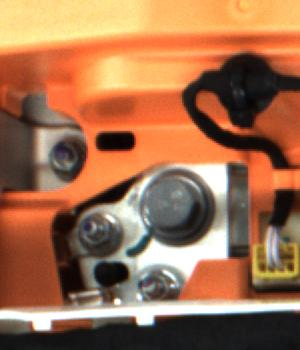nut_b: (138, 171, 218, 248)
screw_s: (44, 139, 92, 185), (135, 269, 179, 306), (79, 212, 116, 252)
